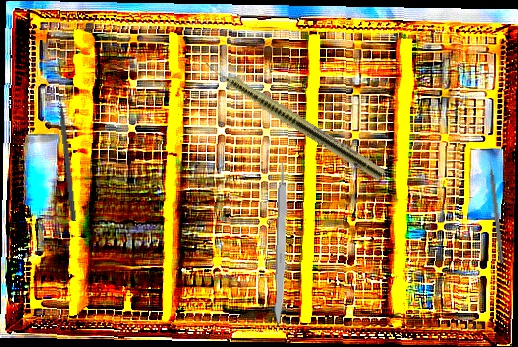Handpiece: (192, 51, 387, 182)
Hook Surgical: (487, 152, 505, 264)
Pusher: (56, 85, 78, 222)
Scalpel Handle: (273, 163, 291, 328)
